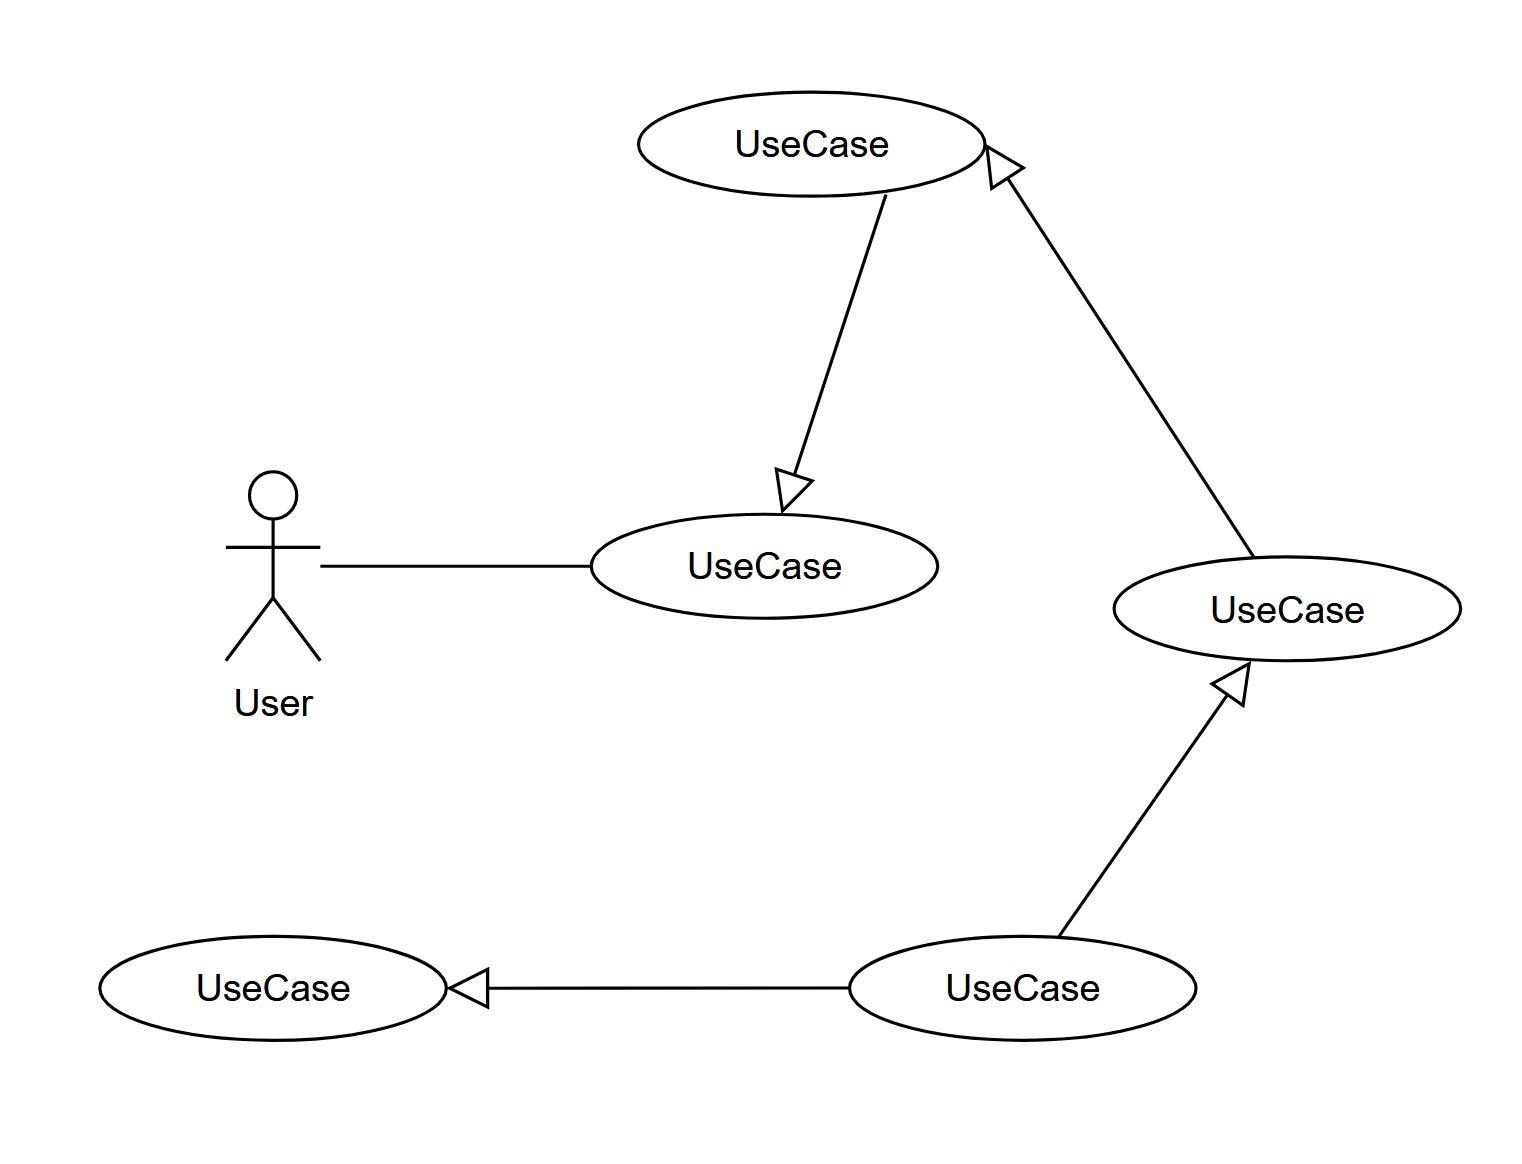actor: (218, 470, 330, 672)
association: (322, 538, 588, 591)
generalization: (983, 143, 1262, 558), (1059, 661, 1255, 933), (771, 193, 896, 514), (449, 961, 844, 1011)
text: (1203, 582, 1378, 639), (685, 538, 859, 591), (189, 966, 364, 1016), (929, 966, 1112, 1009), (729, 130, 903, 164), (233, 687, 326, 725)
use_case: (634, 87, 987, 201), (590, 510, 940, 624), (1109, 553, 1461, 664), (846, 934, 1197, 1045), (98, 933, 449, 1041)
